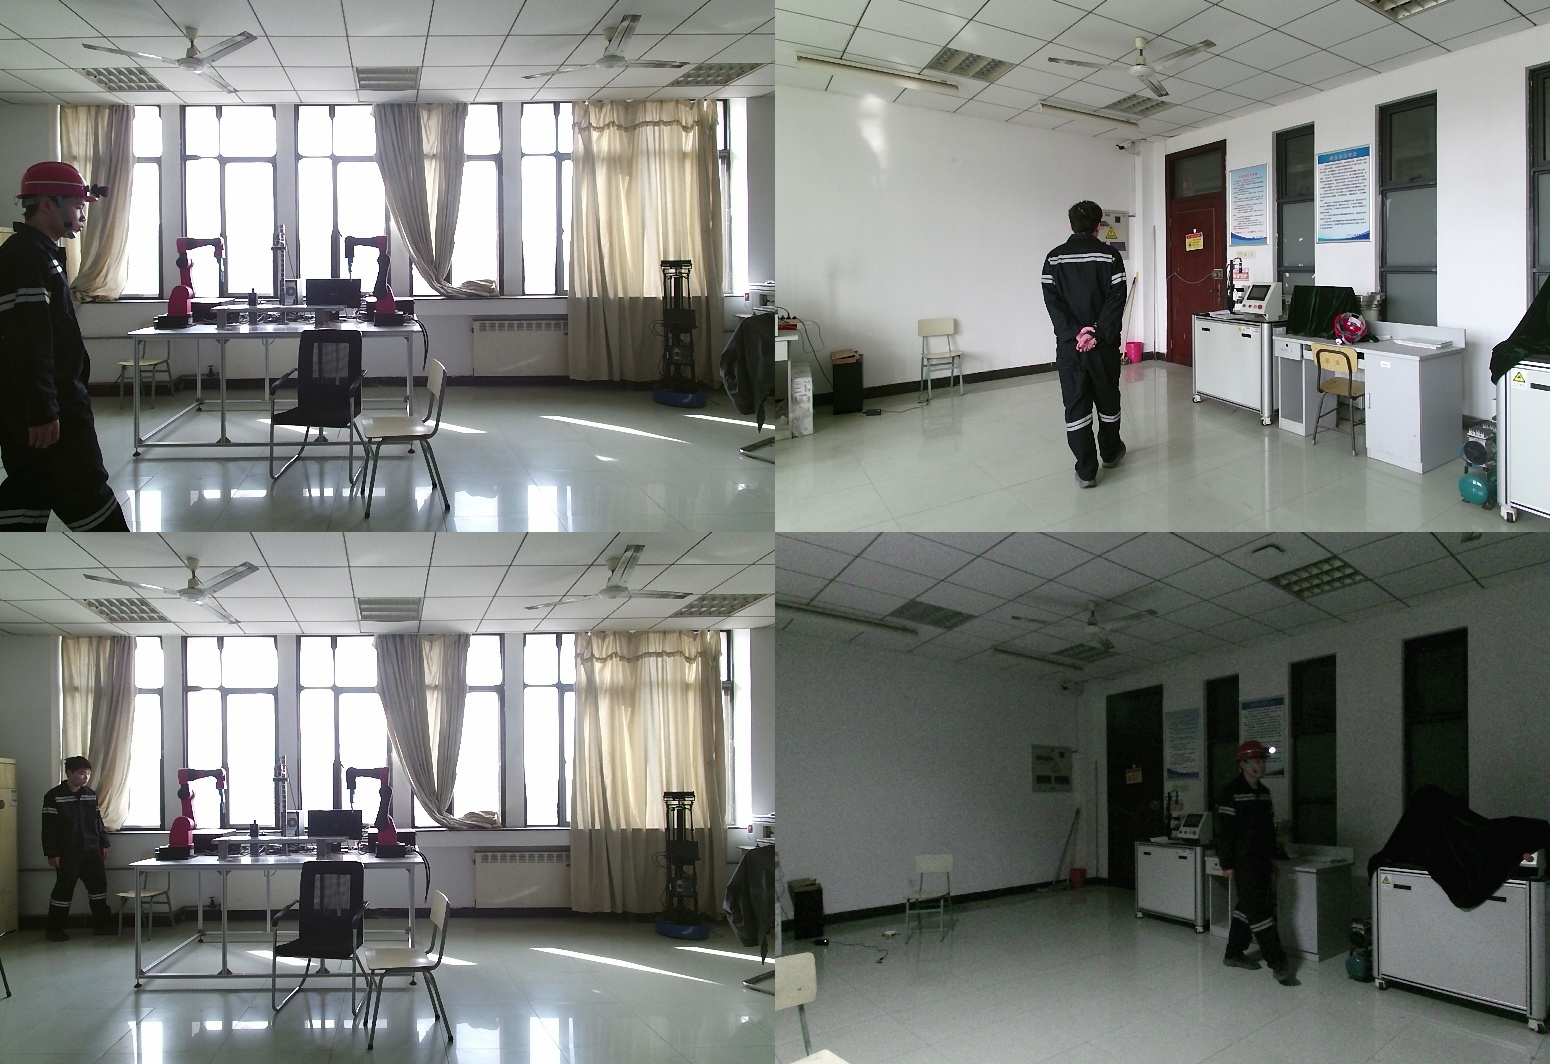person: (1, 163, 131, 532), (1034, 202, 1145, 489), (1211, 739, 1300, 983), (35, 758, 118, 942)
